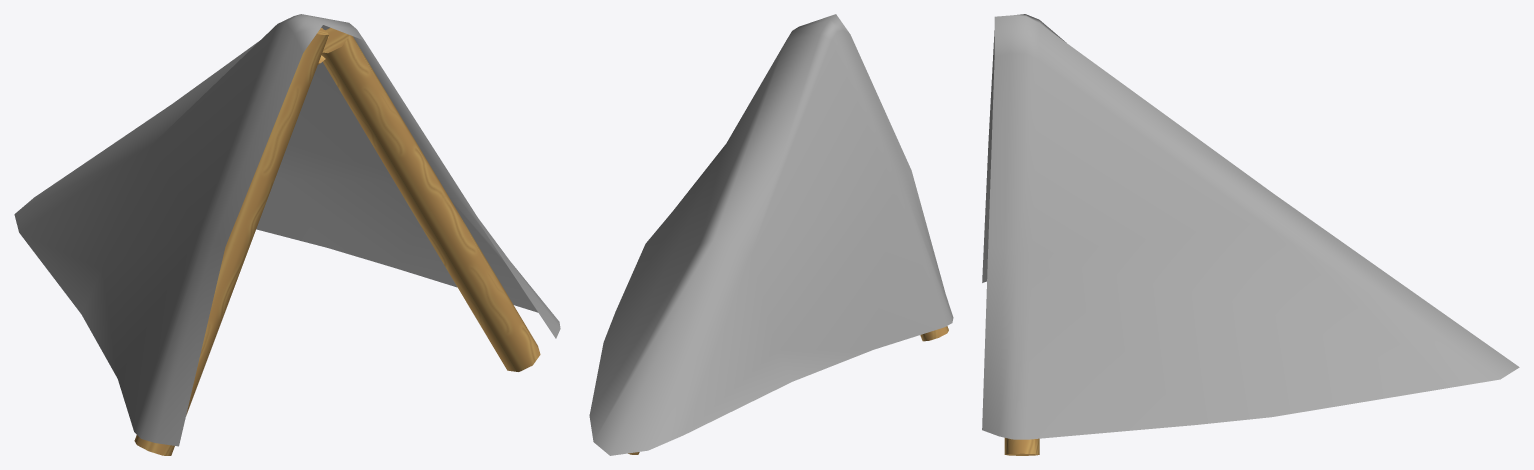
The model's file is hut4.fbx.
The picture shows the model from 3 angles, left to right: view 1: azimuth 30°, elevation 25°; view 2: azimuth 150°, elevation 25°; view 3: azimuth 270°, elevation 25°; orthographic projection. The views are drawn at different scales.
Visible parts, largest first — view 1: Tarp, Wood; view 2: Tarp; view 3: Tarp, Wood.
Part boxes in pixels (left/top/right/bottom): Tarp: left=14, top=14, right=560, bottom=446; Wood: left=134, top=27, right=540, bottom=455; Tarp: left=589, top=14, right=953, bottom=455; Tarp: left=982, top=14, right=1519, bottom=439; Wood: left=1004, top=438, right=1039, bottom=455.
Bounding box in the file's own units: 361 × 341 × 461.
